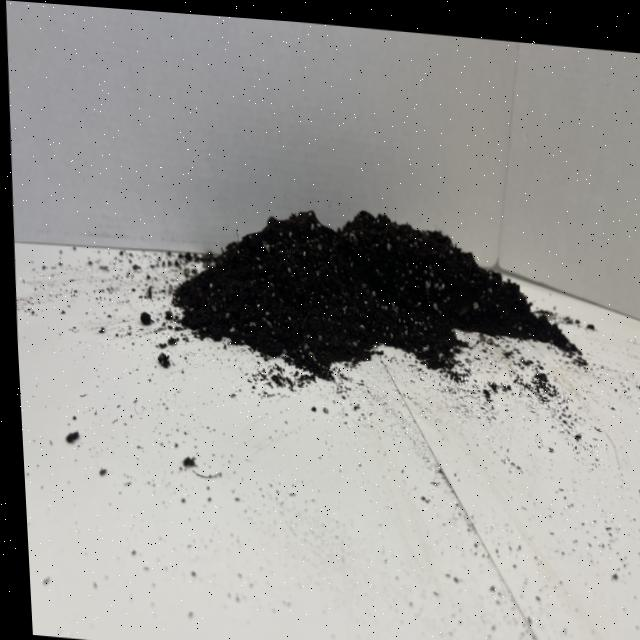soil: (162, 188, 591, 405)
